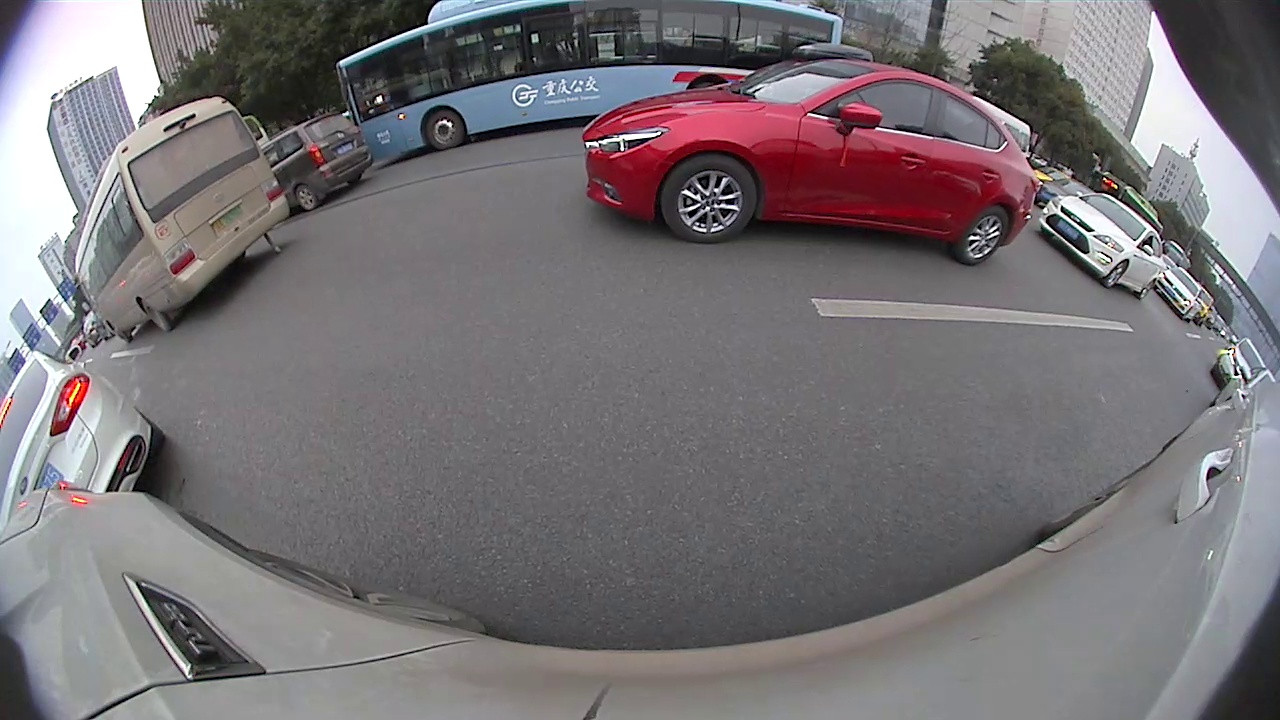bus: (332, 2, 844, 167), (72, 98, 290, 343)
car: (583, 60, 1038, 267), (1, 352, 163, 545), (1040, 194, 1162, 302), (262, 118, 373, 213)
front: (660, 154, 760, 245), (425, 108, 465, 152), (1104, 261, 1128, 288)
rear: (961, 205, 1009, 267), (143, 296, 171, 335), (293, 185, 317, 209), (1141, 279, 1157, 298)
